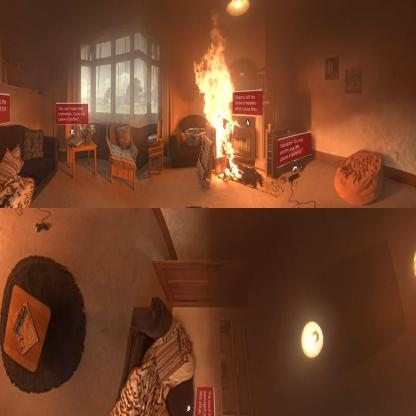fire: (193, 9, 241, 182)
